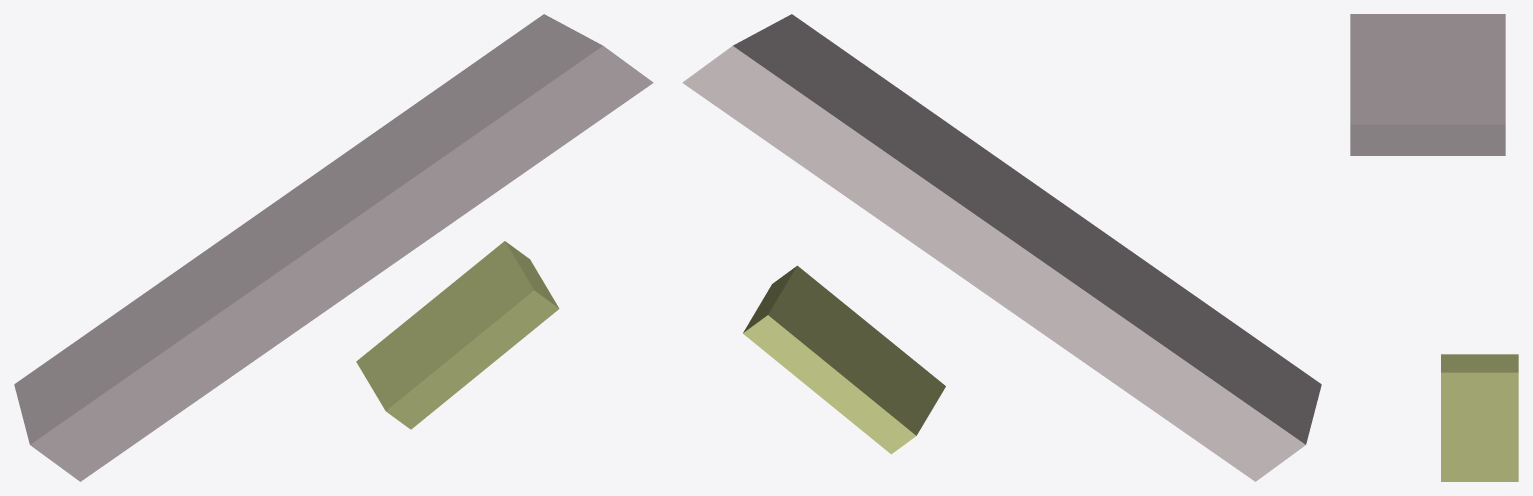
3 views of the same model, side by side, from view 1: azimuth 30°, elevation 25°; view 2: azimuth 150°, elevation 25°; view 3: azimuth 270°, elevation 25° (orthographic). The views are drawn at different scales.
Visible parts, largest first — view 1: 0_3_0_2_1_1_1_2; view 2: 0_3_0_2_1_1_1_2; view 3: 0_3_0_2_1_1_1_2.
Boxes of the visible parts, x1,y1,x2,y2 form: 0_3_0_2_1_1_1_2: (14,14,653,481); 0_3_0_2_1_1_1_2: (682,14,1321,481); 0_3_0_2_1_1_1_2: (1350,14,1518,481).
Bounding box in the file's own units: 80.74 × 47.51 × 13.
